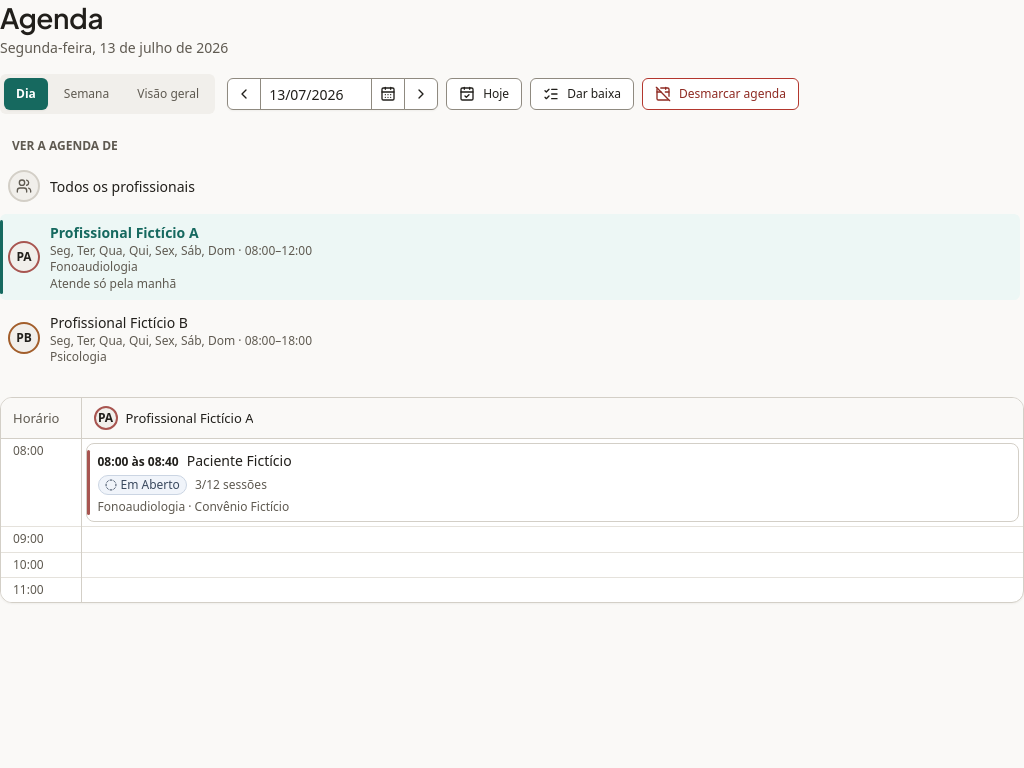
Test: Agenda — as portas que a permissão precisa ter › deve, pelo painel, levar à EDIÇÃO quem pode editar (a edição é destino)
Expected: the table is shown, [1,398,1023,602]
Note: ACT — clique abre a leitura...
What coordinates should you click on to do the following:
click the button "Paciente Fictício"
I would click on:
 (239, 461)
Its box is [187,450,1010,471].
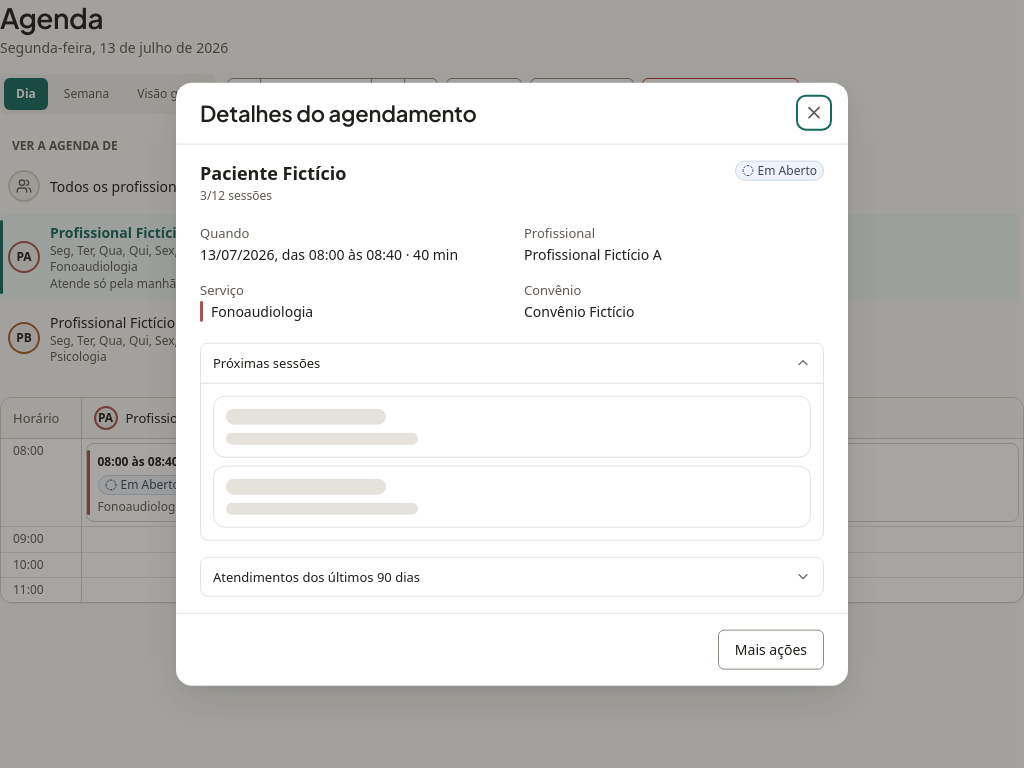
Note: ...e "Mais ações → Editar" abre o formulário
What coordinates should you click on to do the following:
click the button "Mais ações"
I would click on:
 (771, 649)
Its box is [718,629,824,669].
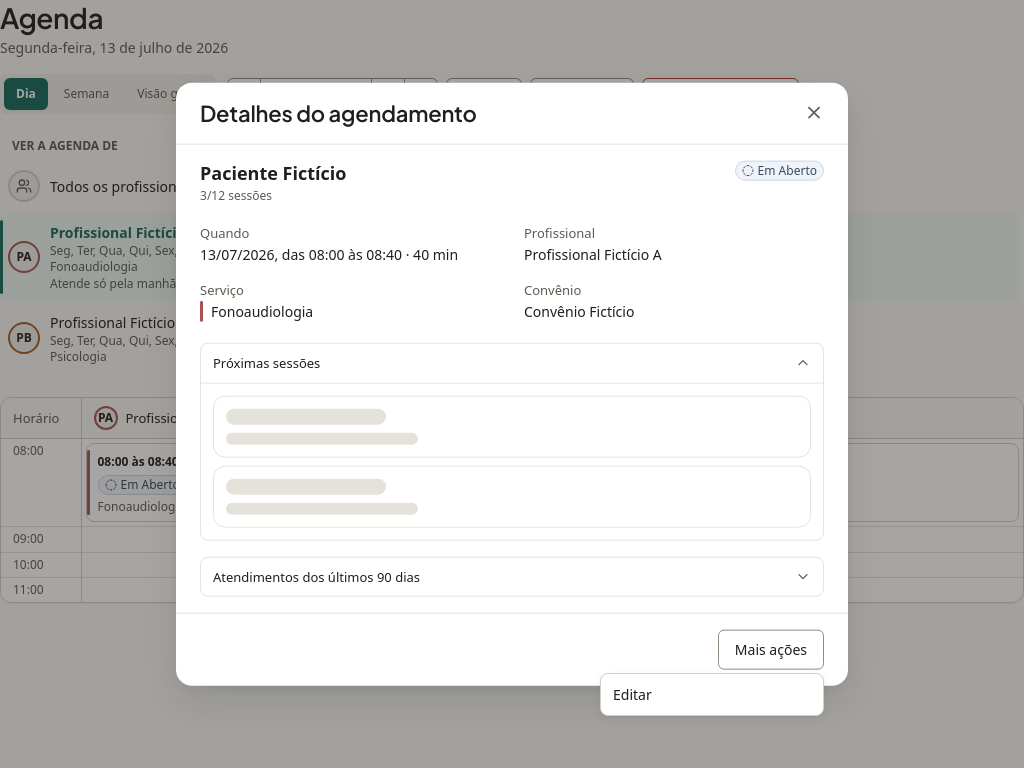
What coordinates should you click on to do the following:
click the menu item "Editar"
I would click on:
 (632, 694)
Its box is [613,685,652,704].
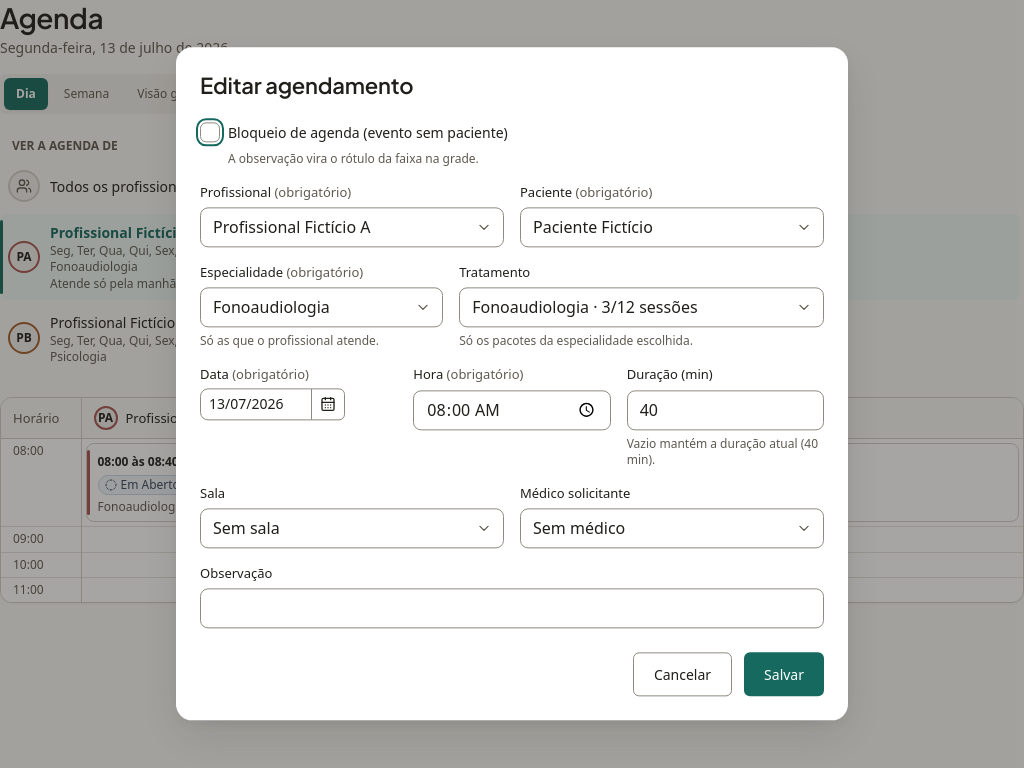
Expected: the field labelled "Observação" is enabled, [200,589,824,629]
Expected: the button "Salvar" is shown, [744,653,824,697]
